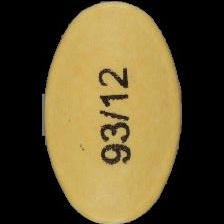68788-9254: (0, 0, 224, 224)
